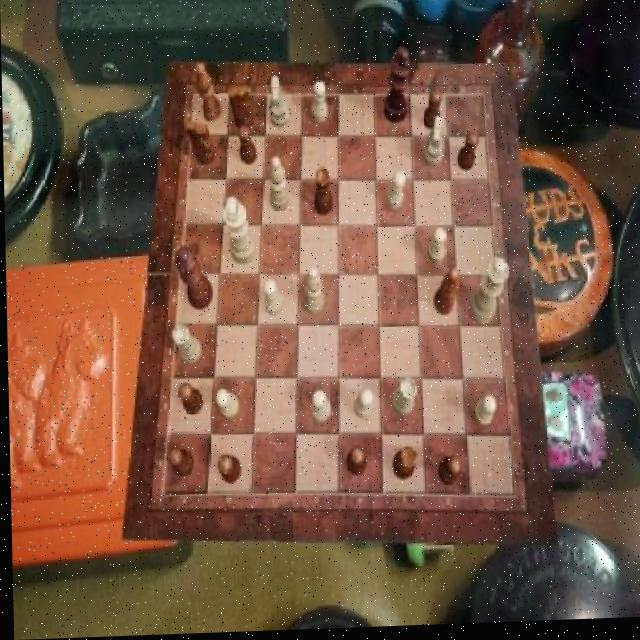bishop: (195, 65, 221, 125), (433, 273, 460, 320)
black-bishop: (383, 50, 412, 126)
black-king: (185, 122, 215, 168), (228, 87, 253, 131)
black-knight: (456, 134, 480, 174), (422, 93, 443, 134), (178, 385, 203, 418), (238, 127, 258, 167), (166, 448, 193, 477), (216, 458, 240, 486), (345, 448, 366, 480), (436, 461, 459, 489)
black-pawn: (173, 246, 212, 311)
black-queen: (313, 171, 332, 219), (391, 447, 416, 482)
black-rook: (269, 159, 289, 214), (302, 268, 324, 317)
white-bishop: (221, 199, 256, 267)
white-king: (269, 78, 290, 131), (422, 119, 443, 171)
white-knight: (262, 281, 283, 318), (214, 390, 238, 422), (385, 175, 405, 213), (472, 399, 495, 431), (310, 392, 331, 427), (311, 84, 328, 126), (426, 232, 445, 268), (353, 392, 374, 422)
white-pawn: (466, 261, 510, 327)
white-queen: (170, 325, 201, 366), (390, 380, 417, 419)
